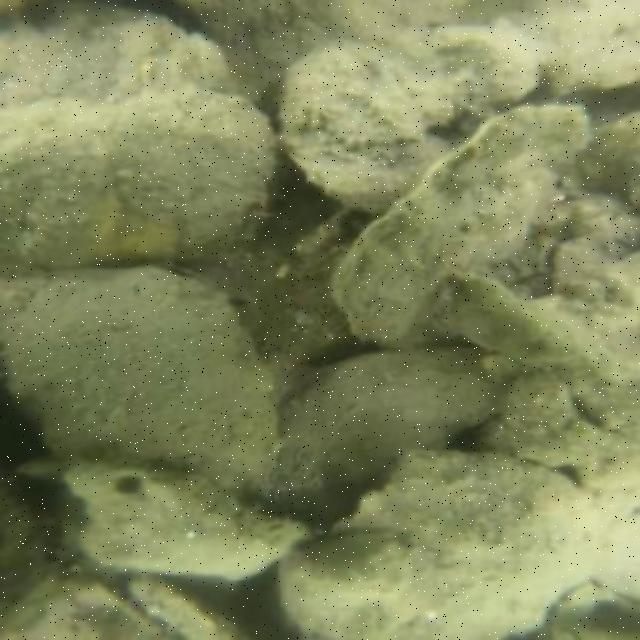Oyster-Closed: (263, 449, 619, 638), (328, 100, 601, 344), (0, 268, 287, 496), (0, 79, 284, 271), (259, 337, 506, 515), (265, 22, 541, 148), (59, 458, 315, 586)
